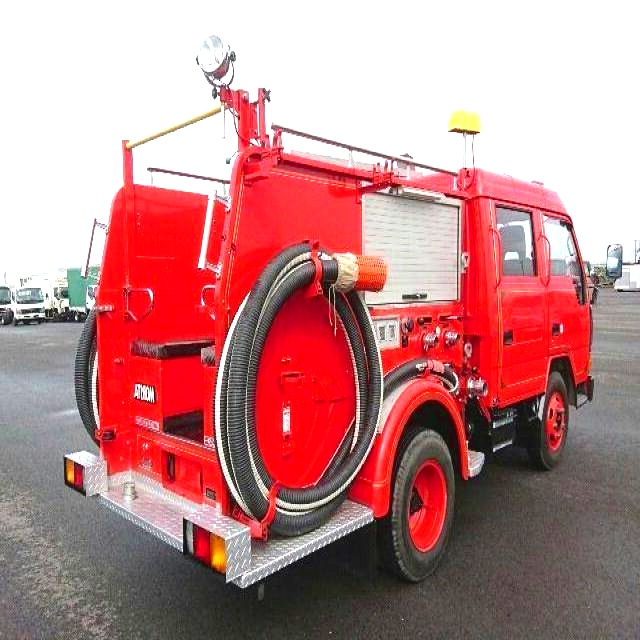truck: (42, 24, 626, 616)
